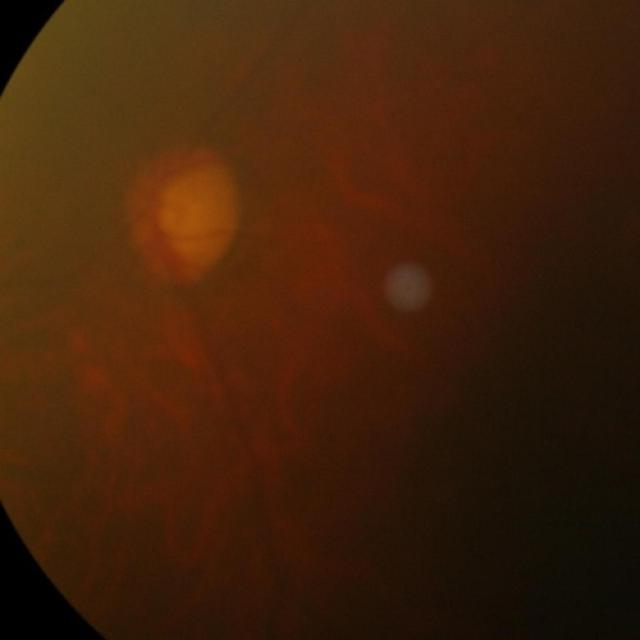OC: (161, 173, 229, 262)
OD: (130, 146, 244, 285)
